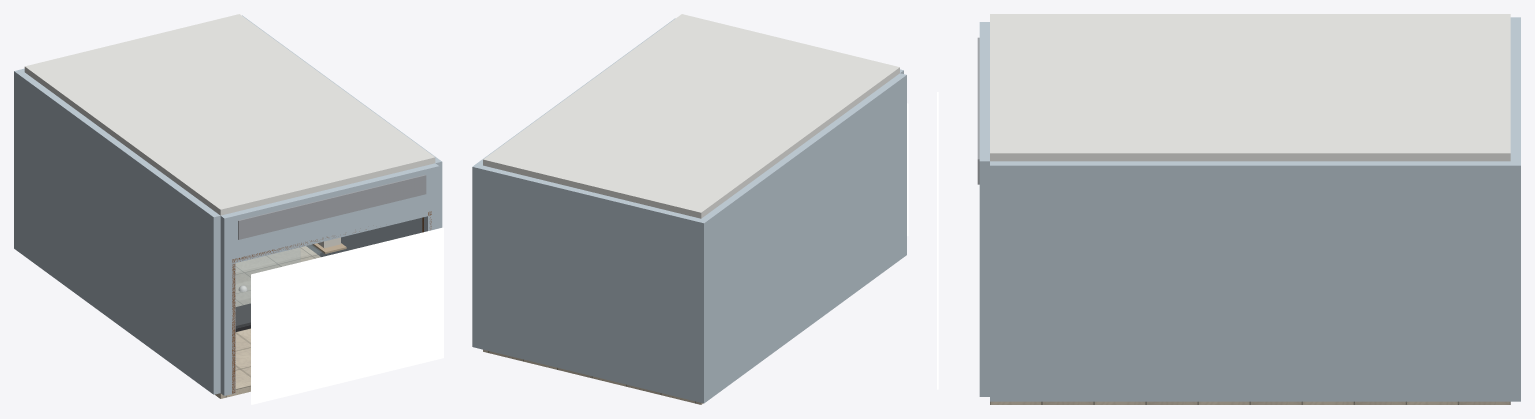
The model's file is room_cctv_shop.glb.
3 renders of one model, left to right at view 1: azimuth 30°, elevation 25°; view 2: azimuth 150°, elevation 25°; view 3: azimuth 270°, elevation 25°, orthographic. The views are drawn at different scales.
Visible parts, largest first — view 1: Room; view 2: Room; view 3: Room.
Boxes of the visible parts, x1,y1,x2,y2 form: Room: (14, 14, 443, 404); Room: (472, 14, 908, 404); Room: (937, 14, 1520, 404).
Size of the model in its own units: 4.04 by 3.2 by 6.73.
32 materials, 2 textured.
